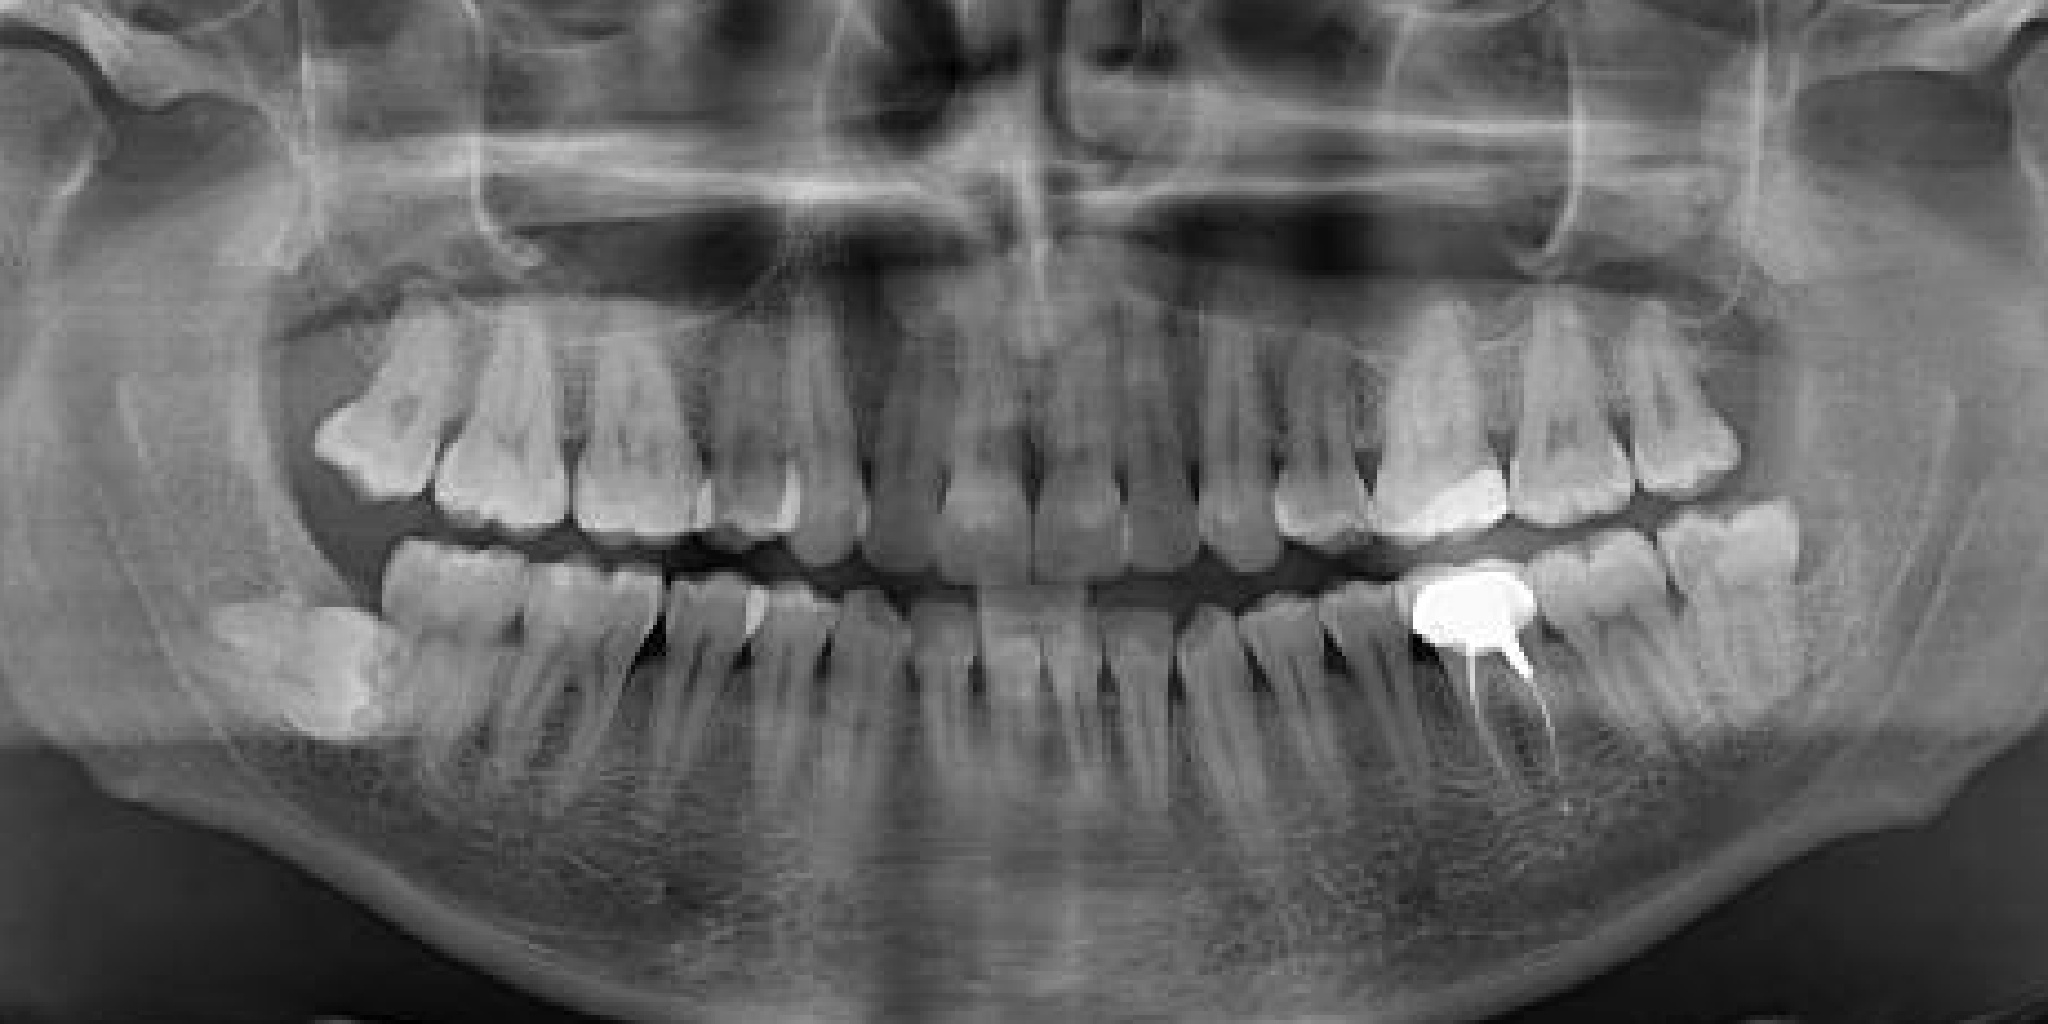Tooth: (93, 411, 479, 856), (364, 468, 742, 914), (1450, 440, 1823, 886), (1326, 468, 1686, 916), (246, 157, 566, 600), (524, 482, 842, 925), (1087, 539, 1384, 977), (1157, 499, 1454, 936), (697, 532, 994, 969), (1247, 487, 1539, 923), (302, 453, 586, 888), (1527, 162, 1806, 596), (1091, 200, 1364, 631), (1420, 170, 1691, 601), (952, 214, 1224, 645), (1014, 201, 1280, 630), (644, 492, 910, 921), (827, 520, 1081, 944), (1021, 522, 1275, 947), (684, 184, 938, 609), (957, 512, 1206, 933), (1618, 417, 1865, 839), (1192, 216, 1439, 636), (388, 192, 635, 613), (631, 197, 872, 616), (1322, 200, 1556, 616), (896, 522, 1130, 938), (516, 206, 750, 622), (794, 221, 1021, 633), (869, 227, 1095, 640)
